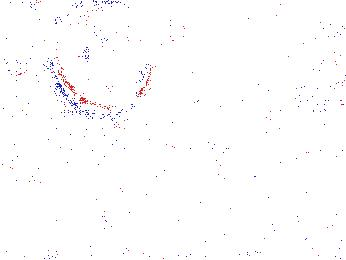moon jellyfish: (51, 4, 150, 115), (1, 1, 64, 63), (317, 20, 346, 113)
